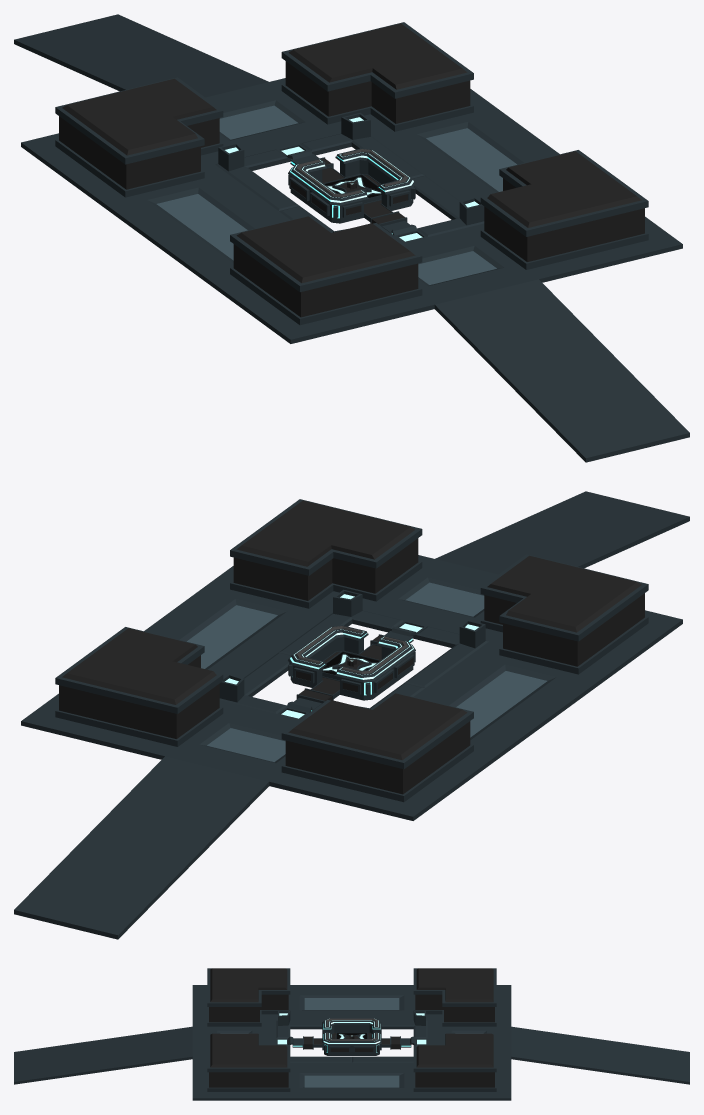
File: Level.glb
3 renders of one model, top to bottom at view 1: azimuth 30°, elevation 25°; view 2: azimuth 150°, elevation 25°; view 3: azimuth 270°, elevation 25°, orthographic. The views are drawn at different scales.
Parts seen in each view (by area): view 1: PLACE, PLACE.001, core, PLACE.002; view 2: PLACE, PLACE.001, core, PLACE.002; view 3: PLACE, PLACE.001, core, PLACE.002.
Part boxes in pixels (bbox=[...]): PLACE: bbox=[14, 14, 689, 462]; PLACE.001: bbox=[55, 22, 648, 325]; core: bbox=[288, 148, 415, 234]; PLACE.002: bbox=[218, 112, 484, 232]; PLACE: bbox=[14, 491, 689, 939]; PLACE.001: bbox=[55, 499, 648, 802]; core: bbox=[288, 625, 415, 711]; PLACE.002: bbox=[219, 589, 485, 709]; PLACE: bbox=[14, 985, 689, 1100]; PLACE.001: bbox=[207, 968, 496, 1091]; core: bbox=[292, 1018, 411, 1055]; PLACE.002: bbox=[278, 1011, 425, 1025].
Bounding box in the file's own units: 47.95 × 10.52 × 121.
2 materials, 1 textured.
